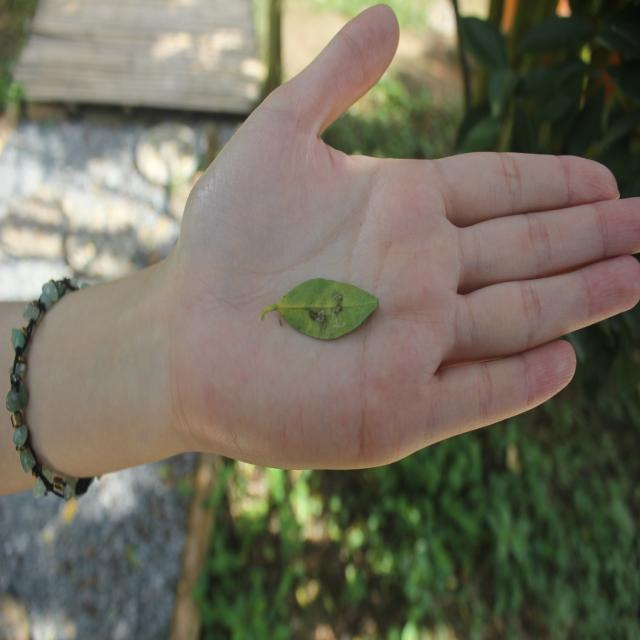canker: (298, 288, 358, 330)
